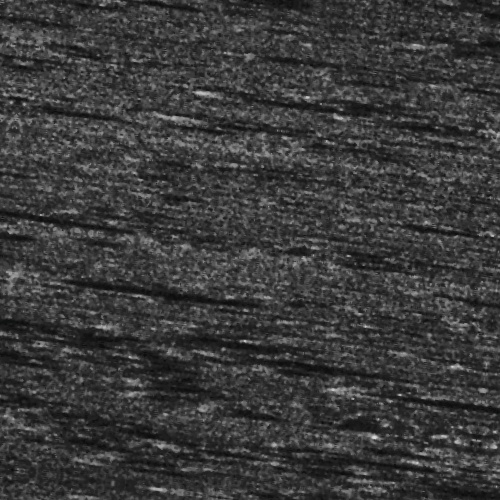object: (22, 300, 179, 311), (157, 488, 262, 500), (384, 454, 457, 467), (331, 368, 424, 377), (103, 336, 196, 345), (362, 200, 415, 207), (216, 351, 257, 358), (432, 491, 463, 498), (189, 94, 230, 99)
shadow: (210, 488, 383, 500), (237, 351, 437, 358), (150, 336, 278, 345), (378, 368, 500, 377), (421, 454, 500, 467), (101, 300, 194, 311), (0, 238, 100, 247), (389, 200, 498, 207), (210, 94, 344, 99), (447, 491, 486, 498), (0, 260, 24, 267)
